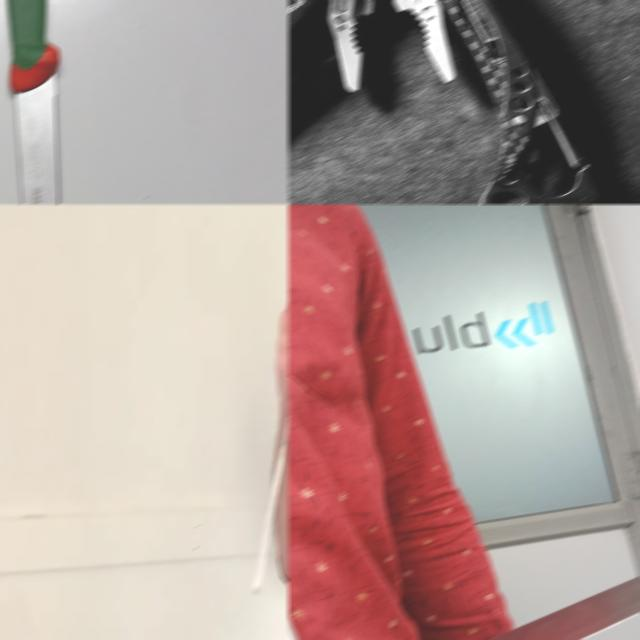Knife: (7, 0, 60, 204)
Knife_Handle: (251, 290, 288, 596)
